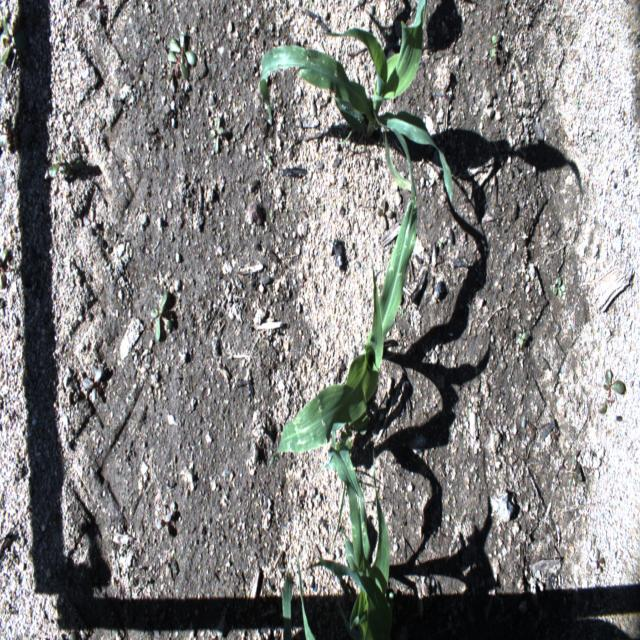crop: (272, 184, 416, 458), (259, 0, 454, 201), (316, 440, 389, 638), (280, 553, 316, 638)
weed: (168, 31, 198, 78), (152, 289, 172, 342), (1, 13, 14, 64), (209, 114, 224, 158), (377, 196, 393, 229), (601, 370, 624, 392), (156, 508, 171, 538), (48, 148, 65, 174), (0, 247, 8, 288), (595, 548, 606, 571), (488, 33, 497, 60), (552, 275, 562, 297), (518, 330, 526, 347), (264, 152, 272, 166), (268, 207, 274, 220)
